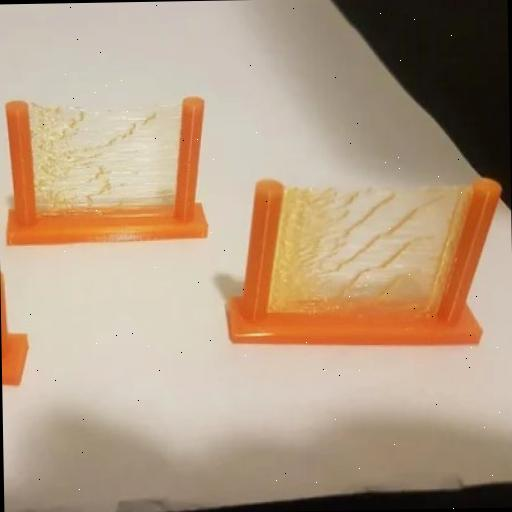stringing: (276, 194, 454, 309), (30, 103, 184, 213)
